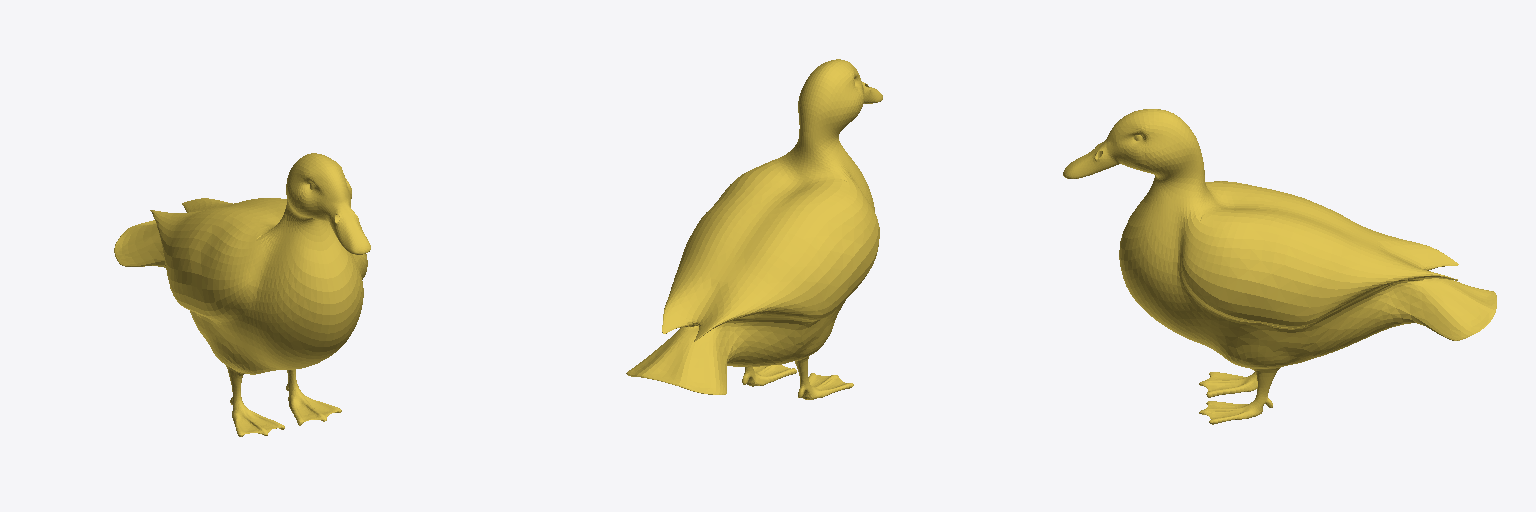
The picture shows the model from 3 angles: view 1: azimuth 30°, elevation 25°; view 2: azimuth 150°, elevation 25°; view 3: azimuth 270°, elevation 25°; orthographic projection.
Visible parts, largest first — view 1: 019_Vray; view 2: 019_Vray; view 3: 019_Vray.
Boxes of the visible parts, box(x1,y1,x2,y2) form: 019_Vray: box(114, 153, 370, 436); 019_Vray: box(626, 59, 882, 399); 019_Vray: box(1063, 109, 1496, 424).
Bounding box in the file's own units: 200 × 362 × 488.